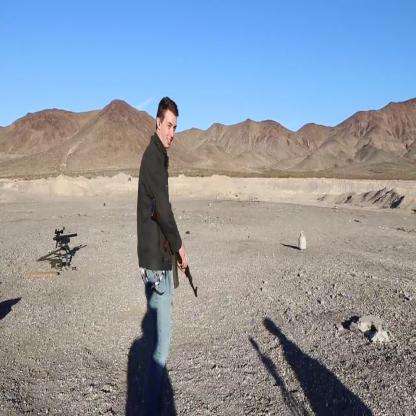long weapon: (152, 199, 198, 301), (50, 214, 86, 272)
